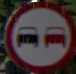No overtake: (5, 2, 72, 73)
